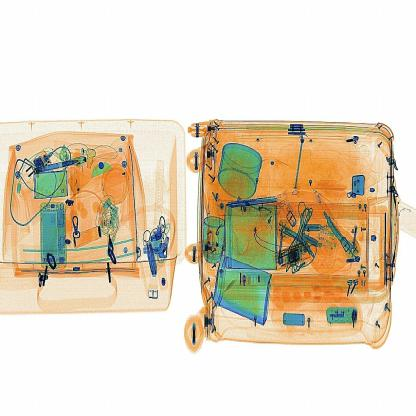pliers: (219, 183, 288, 213)
